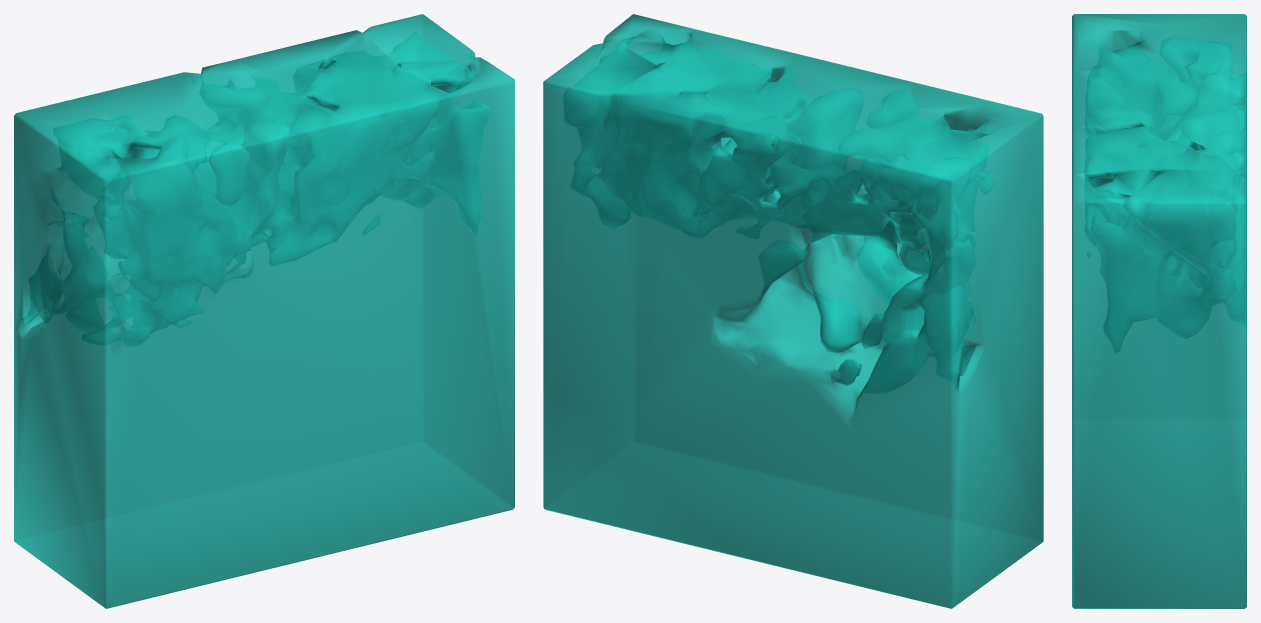
The picture shows the model from 3 angles, left to right: view 1: azimuth 30°, elevation 25°; view 2: azimuth 150°, elevation 25°; view 3: azimuth 270°, elevation 25°; orthographic projection. The views are drawn at different scales.
Visible parts, largest first — view 1: Liquid_Domain; view 2: Liquid_Domain; view 3: Liquid_Domain.
Boxes of the visible parts, x1,y1,x2,y2 form: Liquid_Domain: [14, 14, 514, 608]; Liquid_Domain: [543, 14, 1043, 608]; Liquid_Domain: [1072, 14, 1246, 608].
Size of the model in its own units: 884 by 884 by 344.
